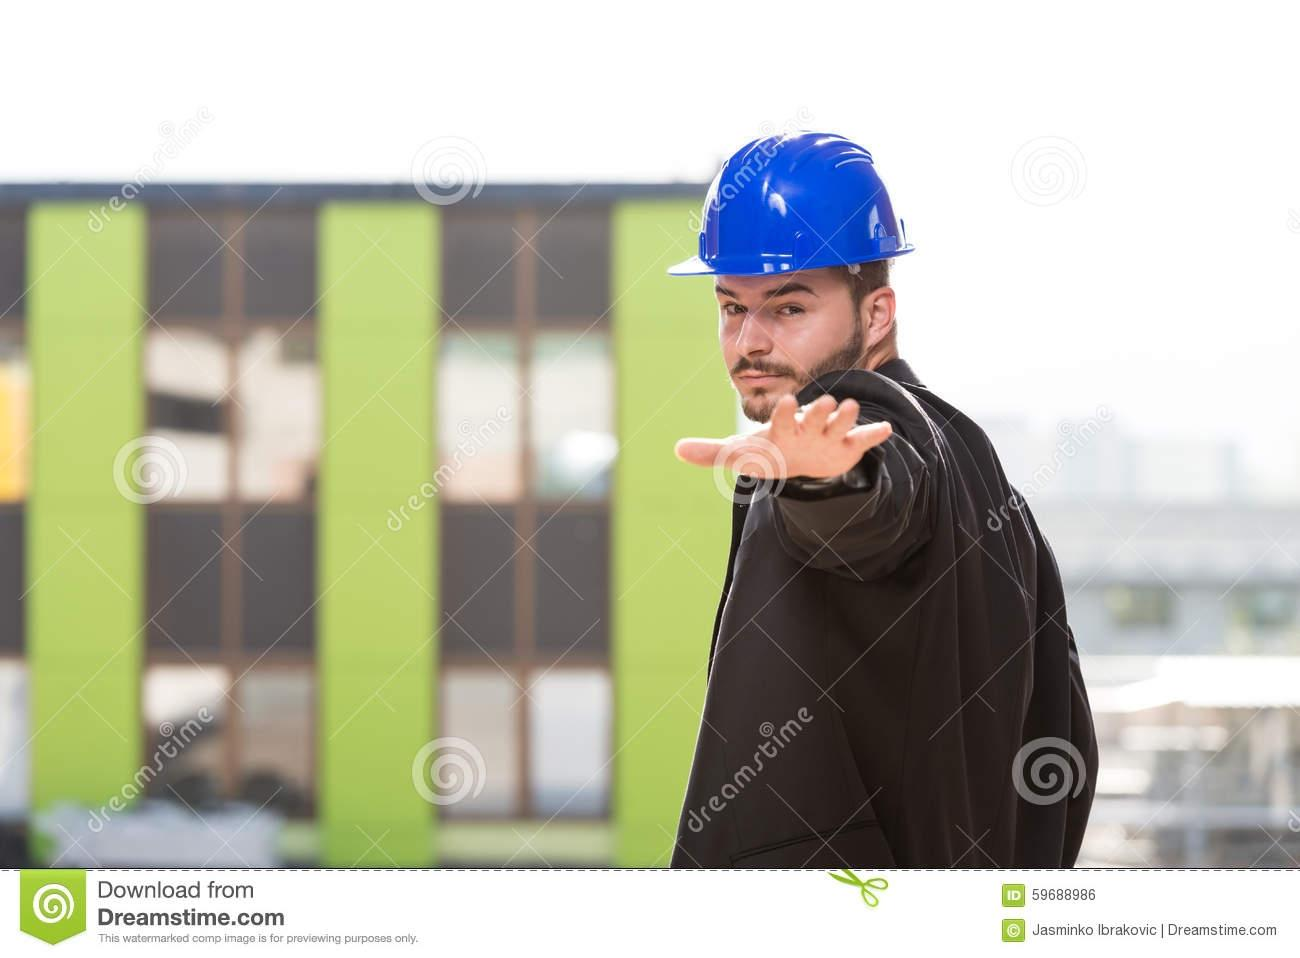helmet: (663, 129, 919, 290)
no_wear: (697, 416, 1100, 873)
